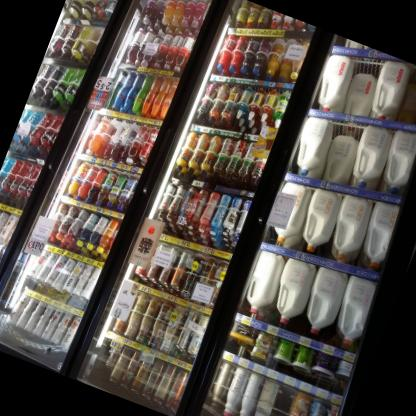empty_space: (262, 380, 300, 416)
